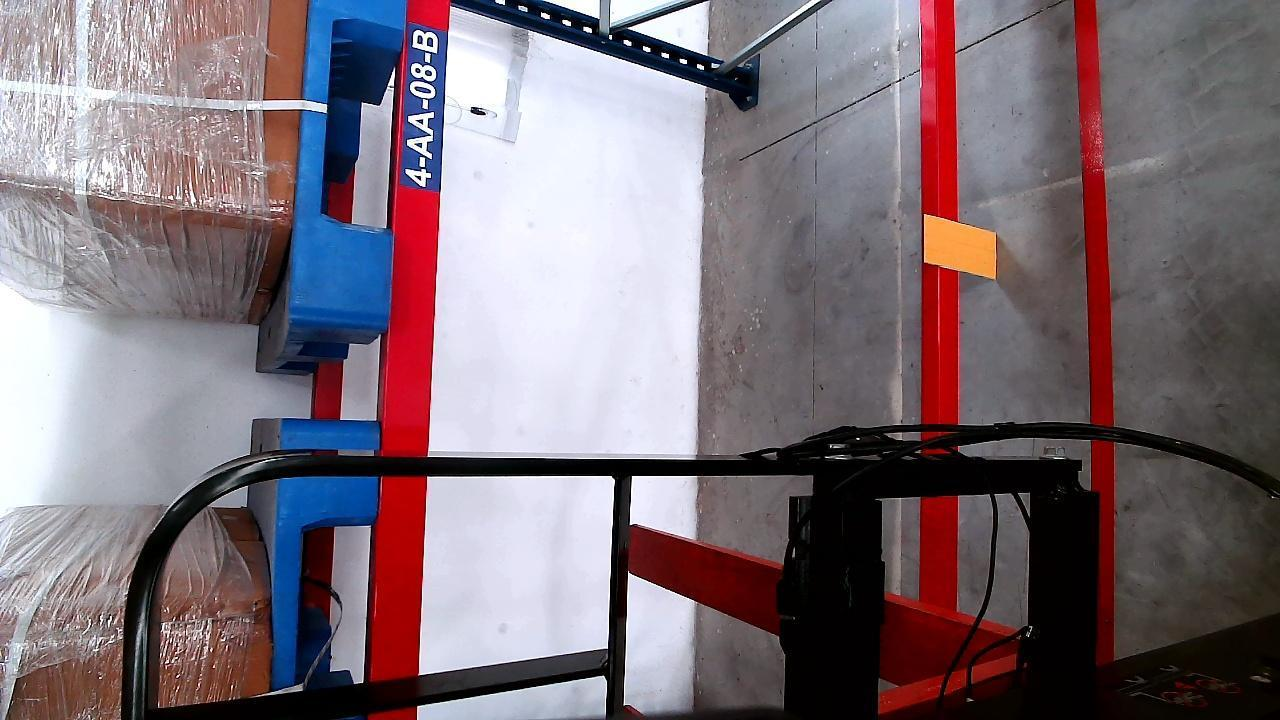h_rack: (376, 0, 455, 675), (922, 0, 965, 611)
orange_strip: (924, 216, 1000, 279)
red_line: (1078, 0, 1110, 661)
small_pallet: (295, 0, 405, 331), (272, 421, 381, 680)
